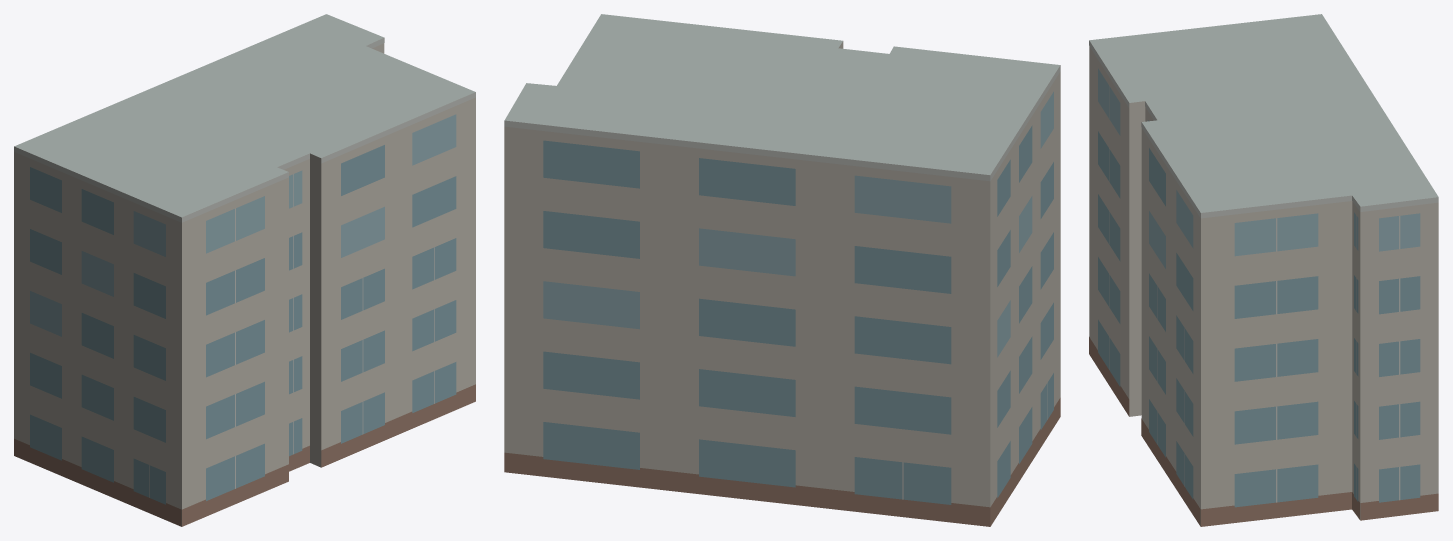
The model's file is survey-upis-32562581.glb.
3 renders of one model, left to right at view 1: azimuth 30°, elevation 25°; view 2: azimuth 150°, elevation 25°; view 3: azimuth 270°, elevation 25°, orthographic. The views are drawn at different scales.
Visible parts, largest first — view 1: survey-upis-32562581.tmp; view 2: survey-upis-32562581.tmp; view 3: survey-upis-32562581.tmp.
Boxes of the visible parts, box(x1,y1,x2,y2) form: survey-upis-32562581.tmp: box(14, 14, 475, 526); survey-upis-32562581.tmp: box(504, 14, 1060, 526); survey-upis-32562581.tmp: box(1089, 14, 1438, 526).
Size of the model in its own units: 19.18 by 14.1 by 14.24.
